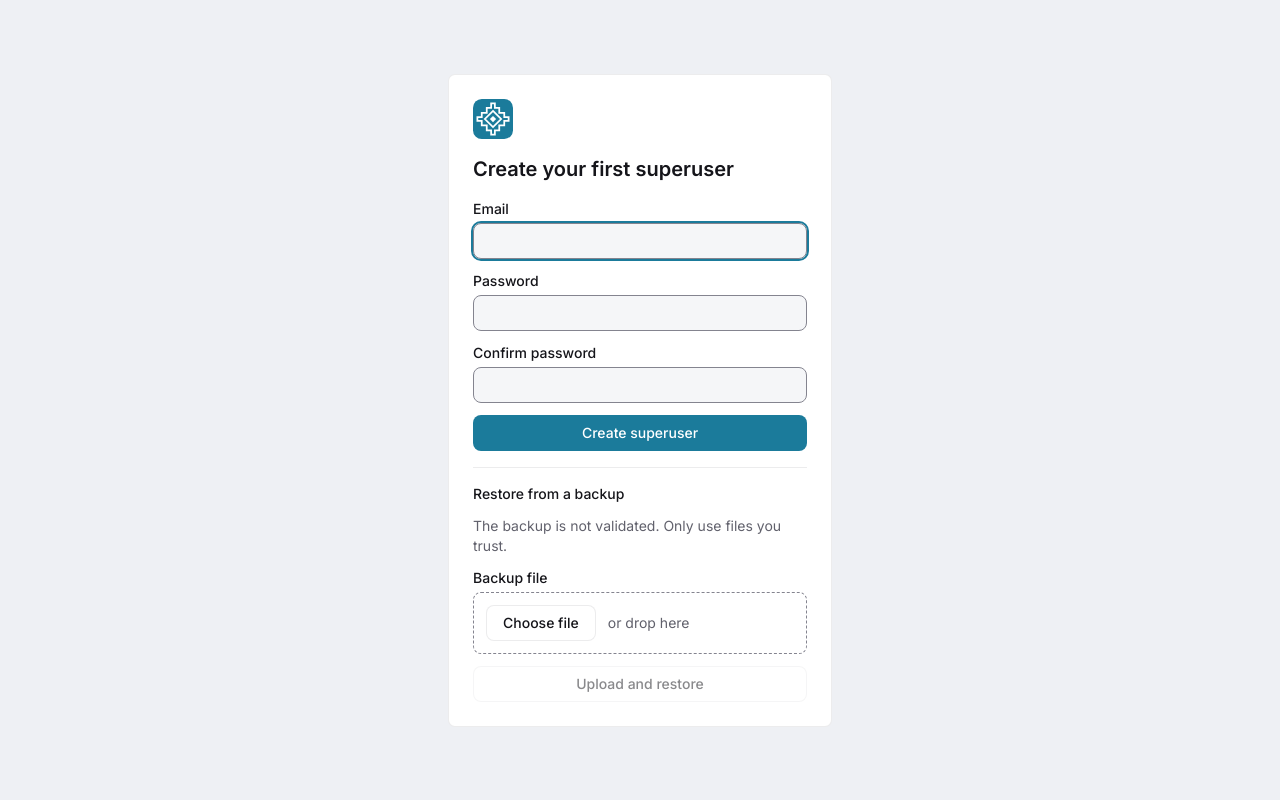
Test: installer creates the first superuser with the installer token and signs in
Type "admin@example.com" into the field labelled "Email" at [640, 240], box [473,222,807,258]
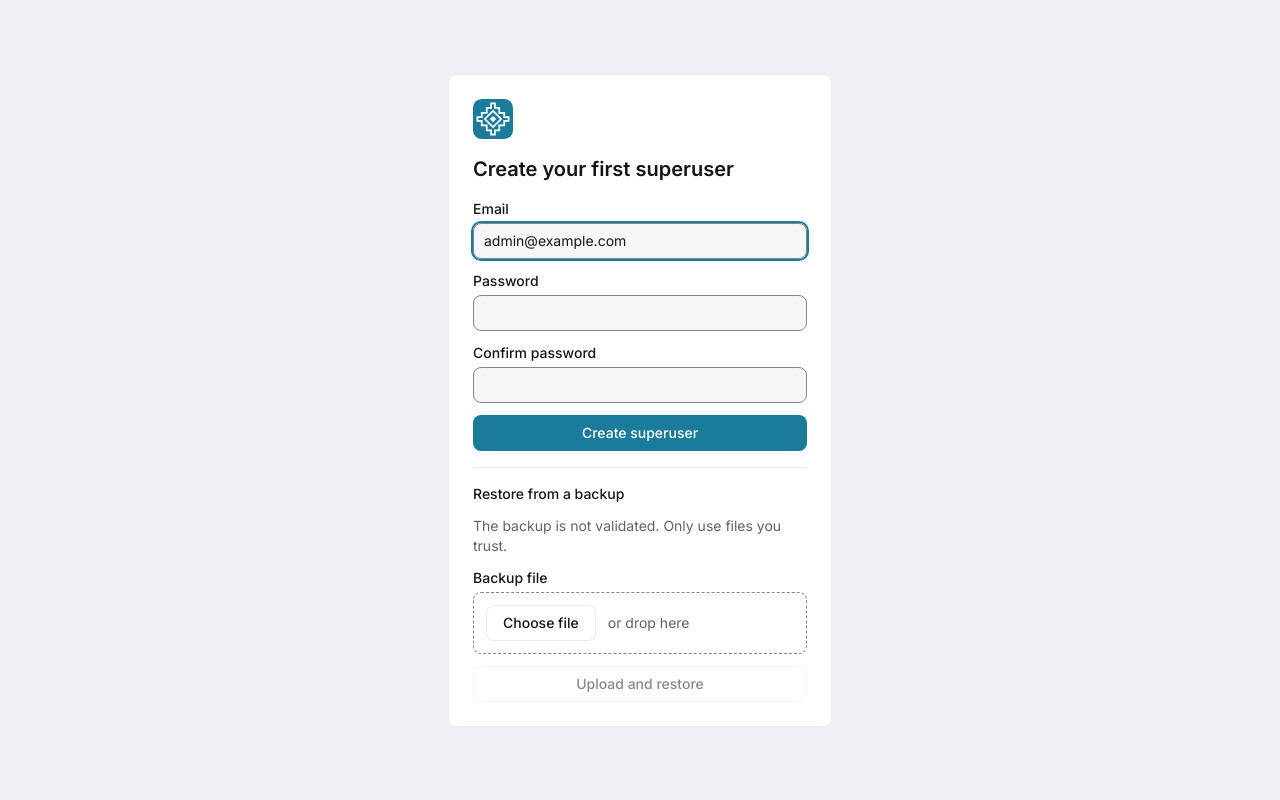
Type "secret12345" into the password field labelled "Password" at [640, 312], box [473,294,807,330]
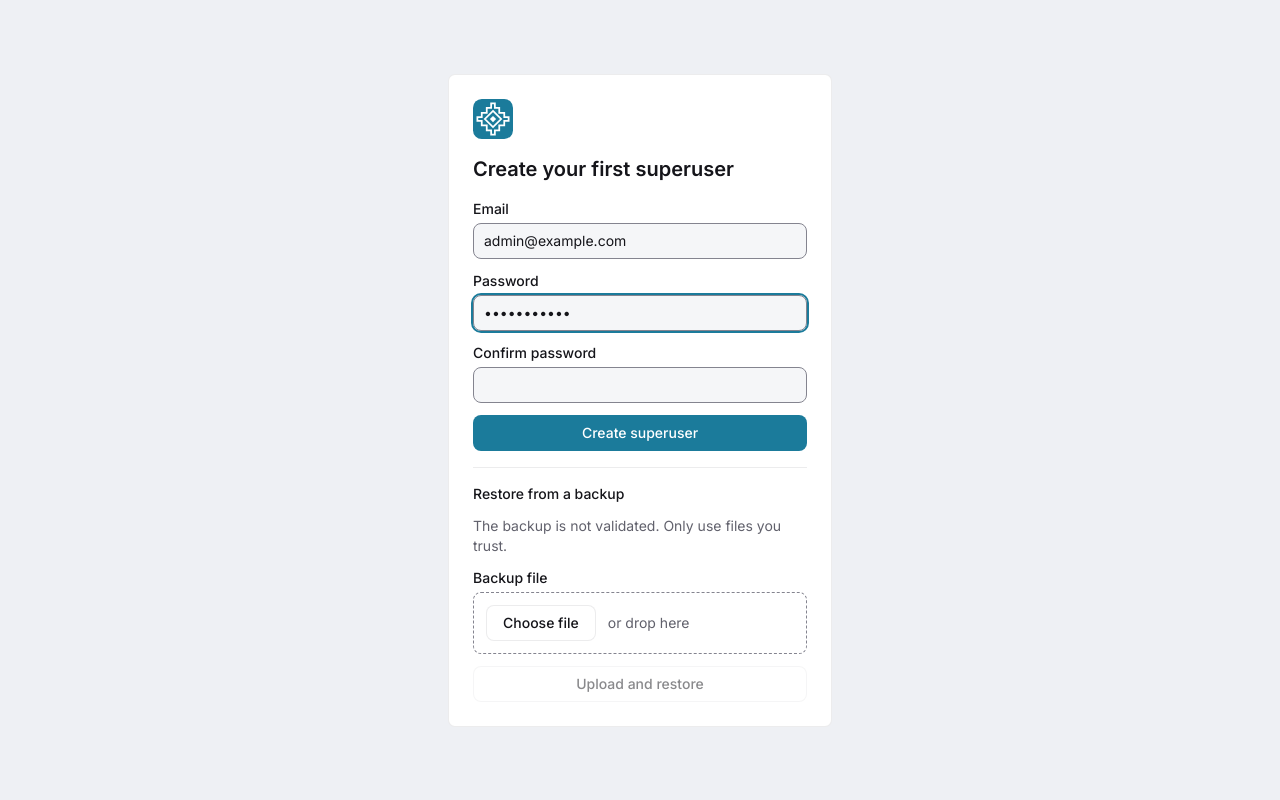
Type "secret12345" into the password field labelled "Confirm password" at [640, 384], box [473,366,807,402]
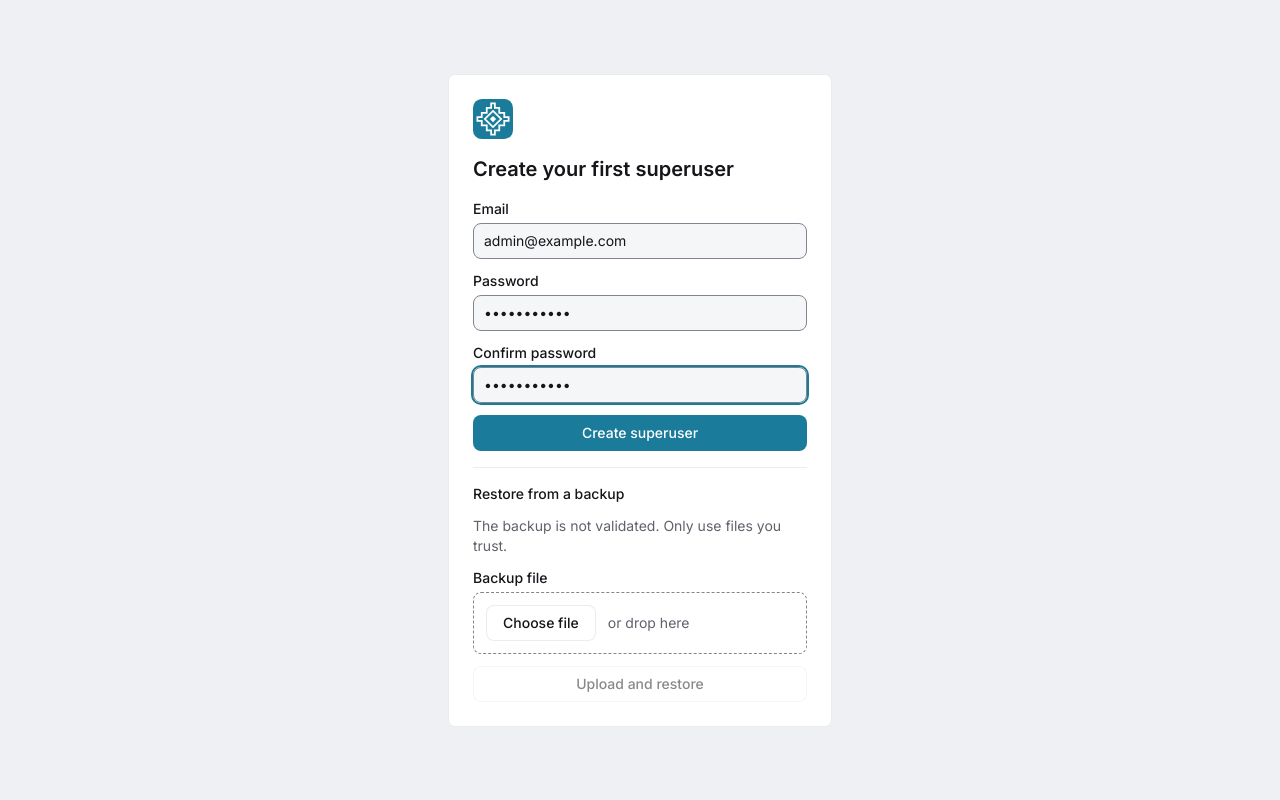
Click the button "Create superuser" at [640, 432], box [473,414,807,450]
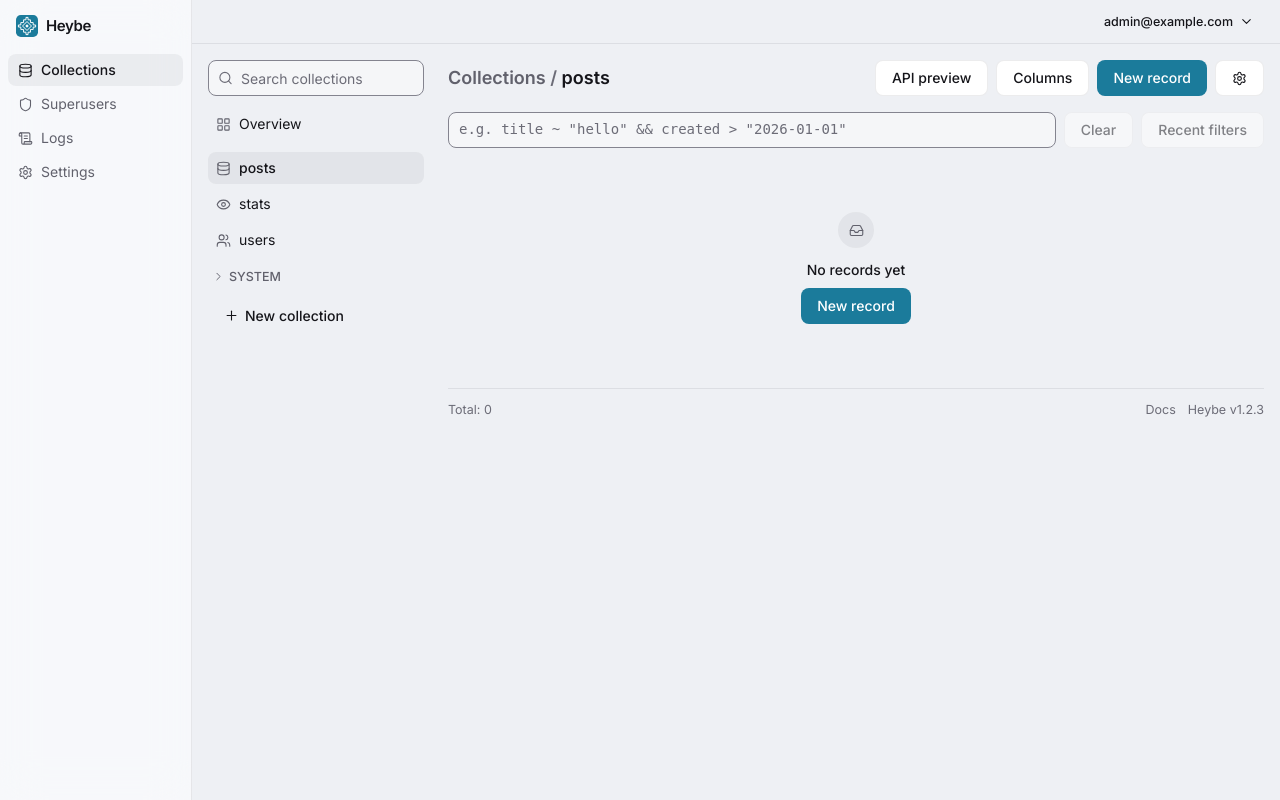
Now the button "admin@example.com" is shown, box [1094,8,1264,36]
